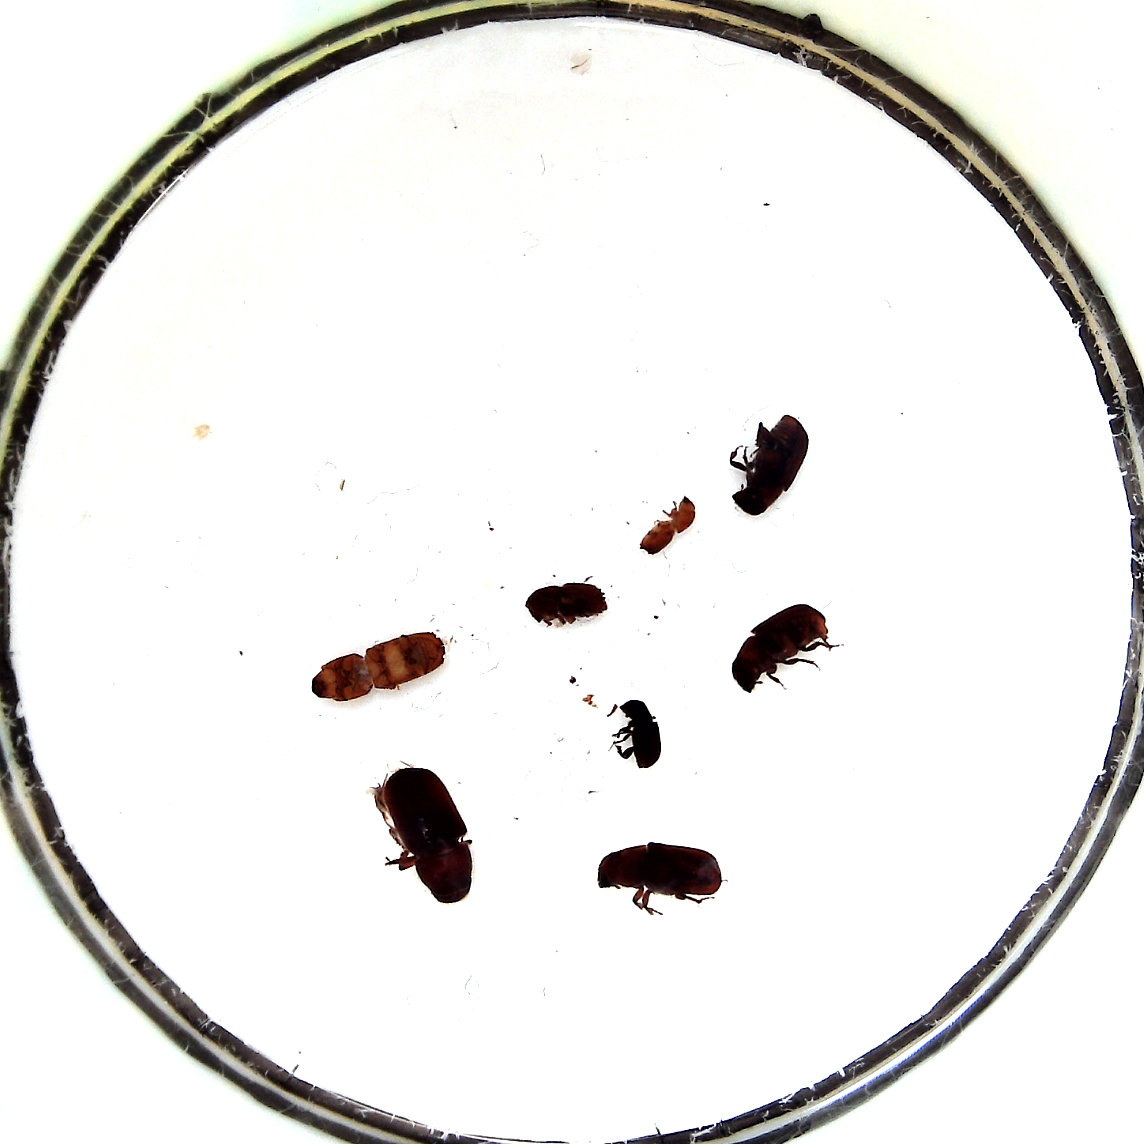Boerner: (307, 628, 450, 700)
Leconte: (379, 764, 474, 907), (731, 600, 831, 692), (595, 840, 721, 912), (730, 415, 812, 518)
Linnaeus: (521, 581, 612, 626)
acuminatus: (638, 492, 697, 556)
armandi: (612, 696, 662, 769)
